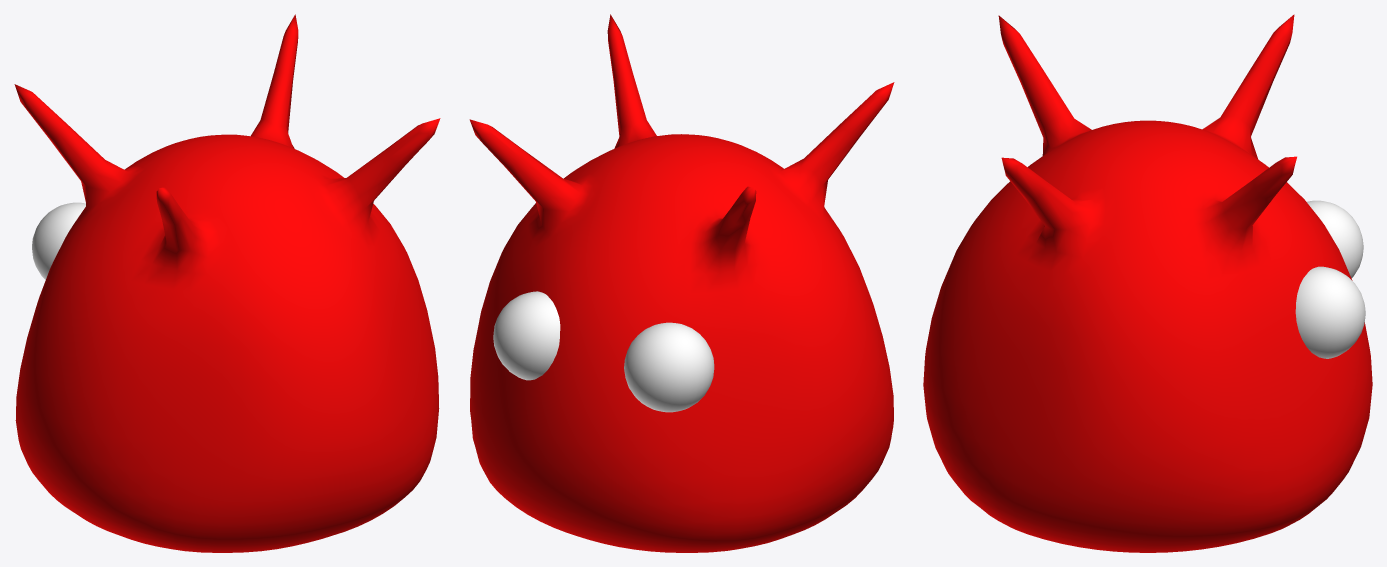
The model's file is blender slime 5.fbx.
3 renders of one model, left to right at view 1: azimuth 30°, elevation 25°; view 2: azimuth 150°, elevation 25°; view 3: azimuth 270°, elevation 25°, orthographic. The views are drawn at different scales.
Visible parts, largest first — view 1: Roundcube, Sphere; view 2: Roundcube, Sphere, Sphere.001; view 3: Roundcube, Sphere.001, Sphere.
Part boxes in pixels (left/top/right/bottom): Roundcube: left=14, top=14, right=440, bottom=552; Sphere: left=32, top=202, right=85, bottom=279; Roundcube: left=469, top=14, right=894, bottom=552; Sphere: left=624, top=322, right=714, bottom=412; Sphere.001: left=493, top=291, right=560, bottom=380; Roundcube: left=923, top=14, right=1372, bottom=552; Sphere.001: left=1295, top=266, right=1365, bottom=358; Sphere: left=1307, top=200, right=1363, bottom=278.
Size of the model in its own units: 76.53 by 79.72 by 76.53.
